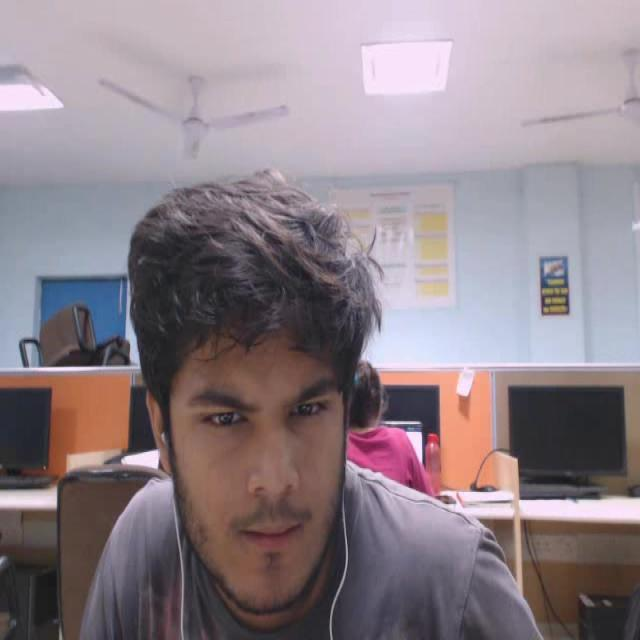Engaged: (114, 164, 408, 635)
